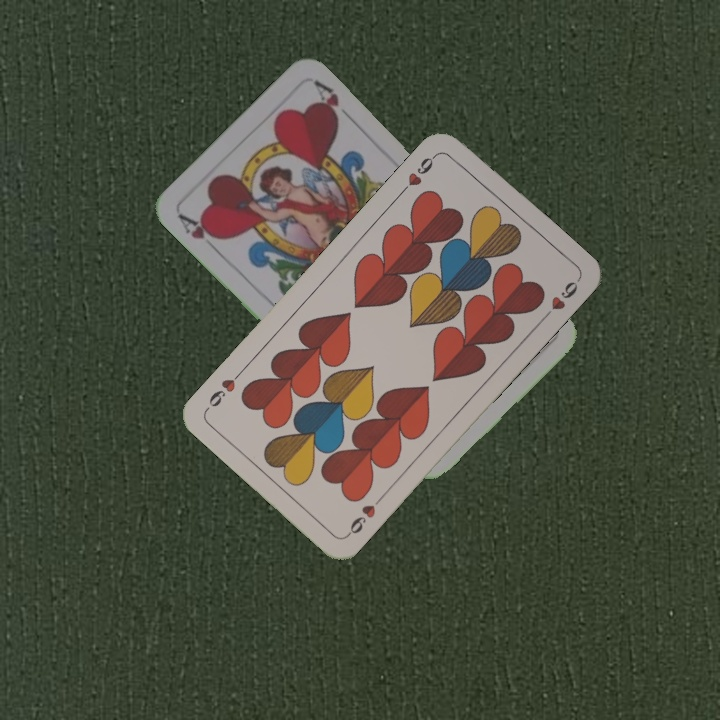H9: (342, 491, 386, 540), (396, 149, 440, 197)
HA: (174, 210, 225, 255)
